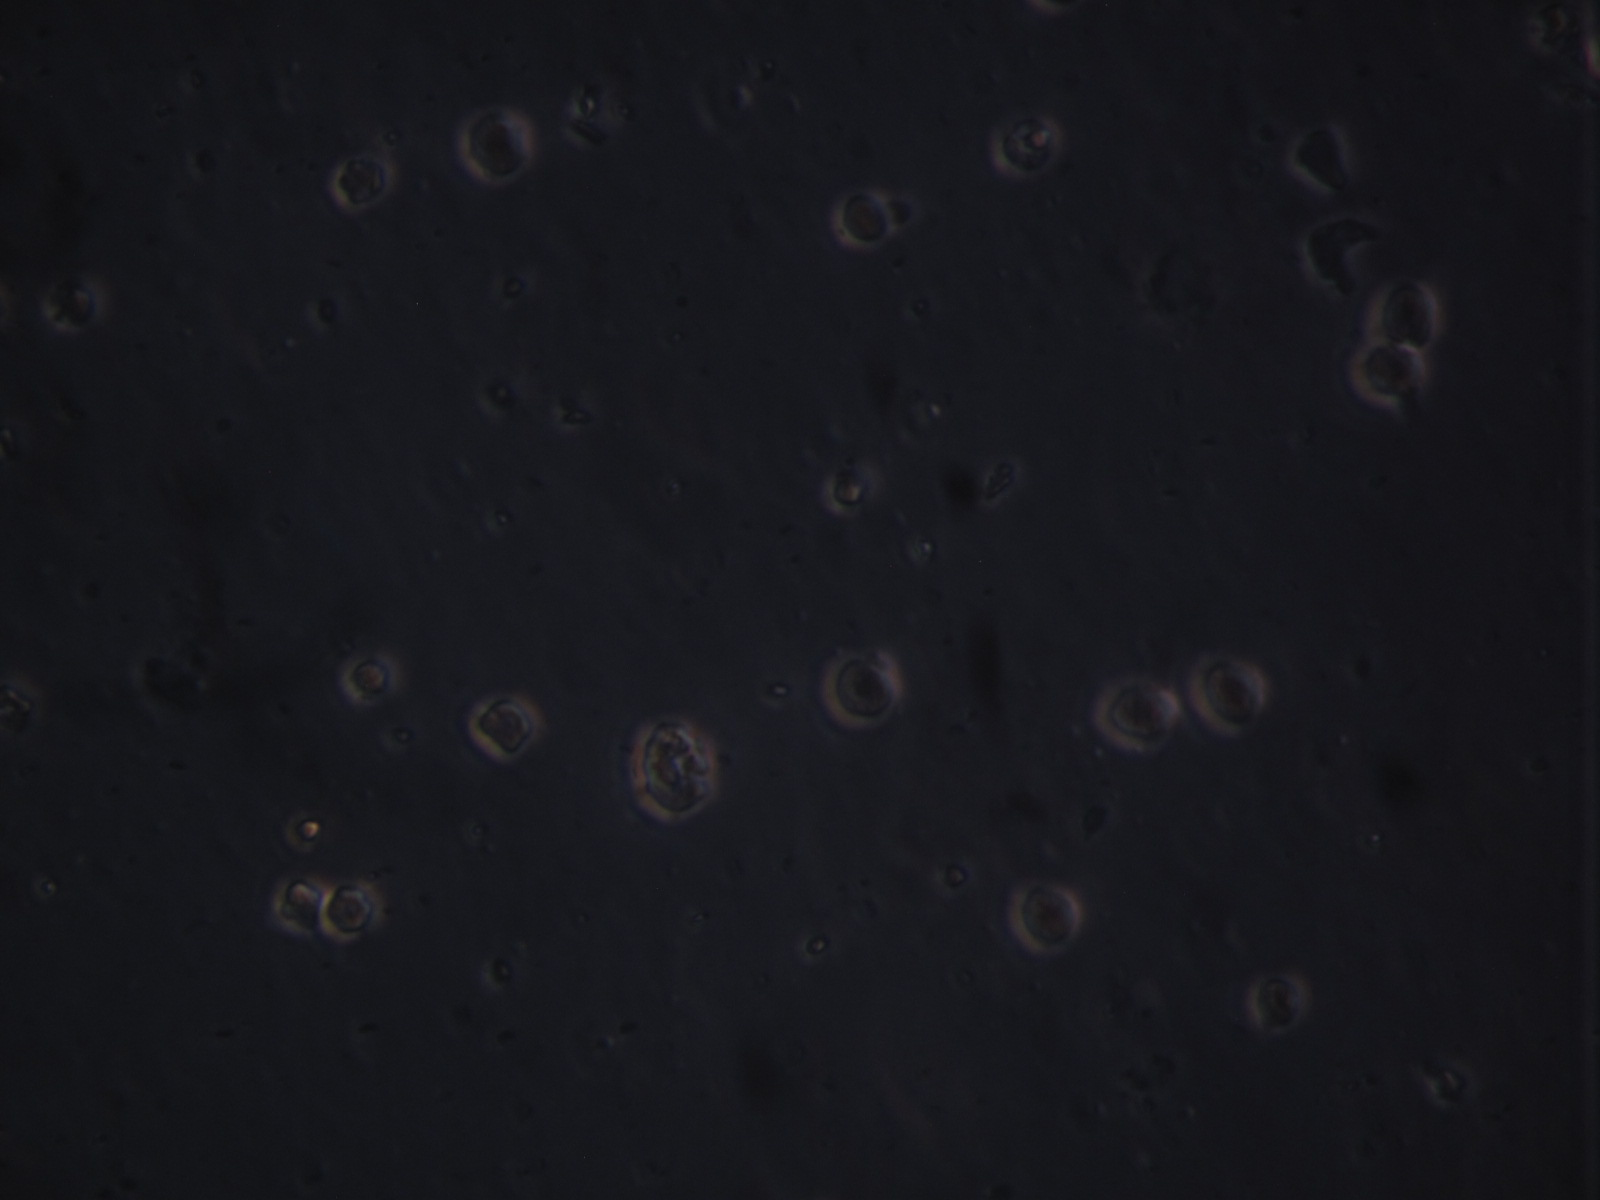hemo: (631, 717, 716, 824), (1092, 674, 1182, 754), (456, 103, 535, 185), (1191, 652, 1267, 735), (821, 652, 898, 729), (1364, 277, 1443, 350), (1353, 337, 1432, 406), (1007, 880, 1082, 952), (469, 692, 540, 764), (993, 111, 1065, 175), (1291, 121, 1353, 193), (321, 880, 384, 944), (331, 151, 396, 214), (42, 276, 105, 337), (831, 187, 893, 247), (1249, 971, 1308, 1032), (344, 654, 403, 707), (278, 879, 326, 939), (824, 463, 876, 516)
